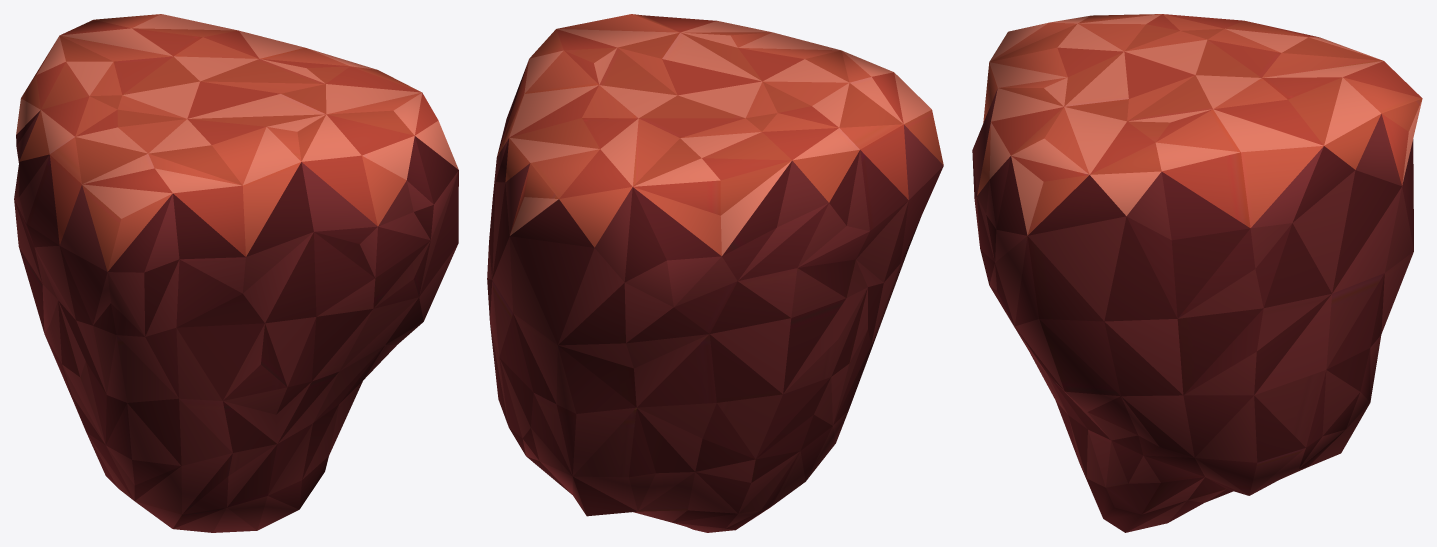
The model's file is Triangle_Island_Low_Lvl_1.fbx.
3 renders of one model, left to right at view 1: azimuth 30°, elevation 25°; view 2: azimuth 150°, elevation 25°; view 3: azimuth 270°, elevation 25°, orthographic. The views are drawn at different scales.
Visible parts, largest first — view 1: polySurface1; view 2: polySurface1; view 3: polySurface1.
Part boxes in pixels (box(x1,y1,x2,y2)): polySurface1: box(14, 14, 458, 532); polySurface1: box(487, 14, 943, 532); polySurface1: box(972, 14, 1422, 532).
Size of the model in its own units: 787 by 867 by 806.
